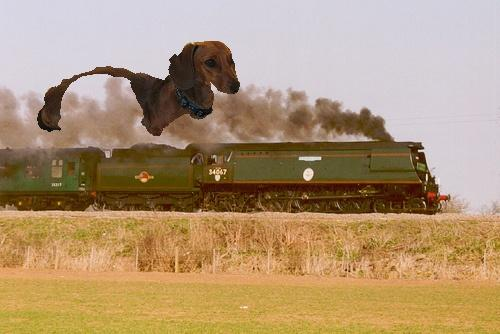tampered: (38, 42, 240, 136)
